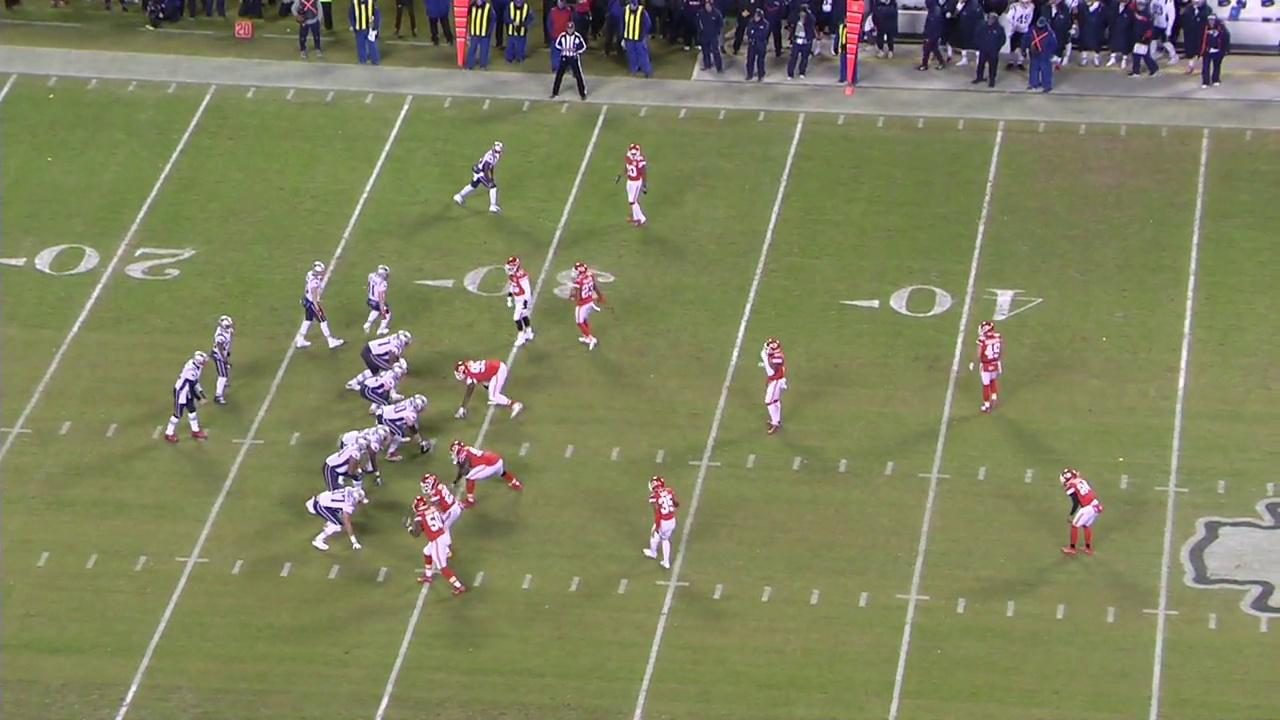defense: (412, 499, 467, 594), (452, 356, 524, 419), (448, 441, 521, 502), (565, 262, 614, 348), (503, 256, 539, 356), (1057, 470, 1098, 557), (421, 471, 461, 560), (620, 140, 653, 239), (973, 317, 1005, 414), (645, 474, 676, 573), (761, 334, 788, 440)
oline: (303, 435, 368, 514), (345, 331, 413, 393), (377, 396, 430, 462), (339, 425, 388, 488), (361, 362, 407, 406)
qb: (162, 347, 214, 447)
ref: (545, 23, 592, 106)
skill: (306, 485, 368, 557), (294, 255, 332, 353), (454, 143, 504, 216), (210, 309, 245, 410), (363, 262, 396, 336)
